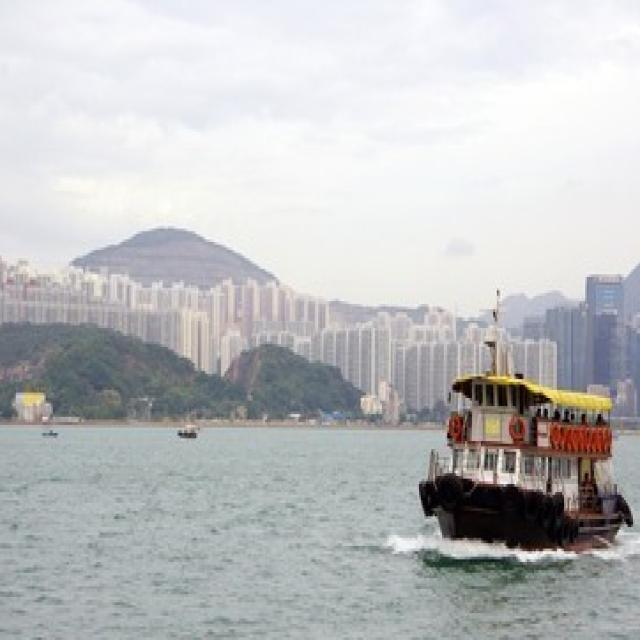passenger ship: (406, 305, 630, 577)
